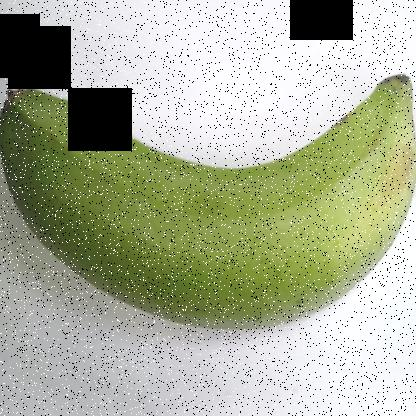freshunripe: (1, 46, 415, 338)
